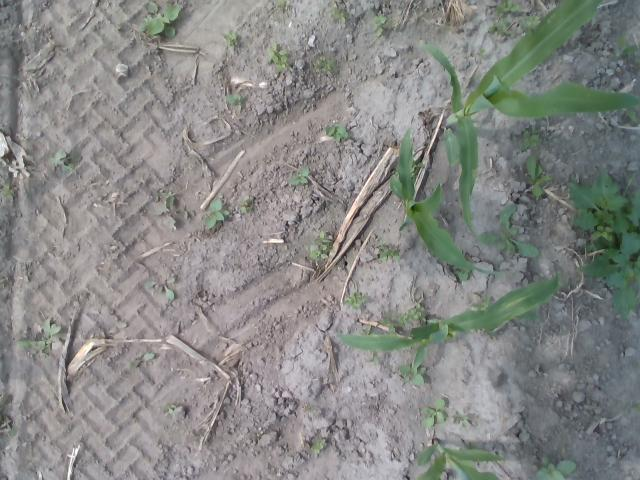Maize: (421, 0, 640, 240), (334, 266, 564, 373), (386, 125, 516, 278), (411, 439, 505, 480)
Weeds: (567, 168, 640, 318), (478, 204, 538, 258), (141, 188, 190, 230), (16, 317, 64, 359), (138, 0, 182, 38), (522, 154, 552, 198), (530, 454, 577, 480), (398, 343, 426, 386), (48, 149, 82, 175), (142, 276, 176, 300), (202, 200, 229, 230), (391, 159, 424, 183), (264, 40, 288, 72), (308, 231, 334, 259), (423, 398, 446, 429), (369, 14, 396, 38), (613, 34, 637, 58), (324, 3, 349, 26), (486, 17, 514, 37), (378, 314, 404, 335), (312, 55, 336, 76), (377, 241, 400, 262), (404, 302, 427, 323), (342, 292, 368, 310), (322, 124, 348, 142), (468, 288, 489, 310), (516, 14, 539, 34), (519, 128, 539, 151), (128, 352, 156, 368), (223, 92, 245, 112), (222, 29, 242, 51), (286, 167, 310, 184), (452, 261, 472, 281), (492, 0, 520, 14), (623, 106, 640, 126), (238, 194, 255, 214), (454, 409, 470, 429), (0, 394, 9, 424), (0, 182, 16, 198), (312, 438, 326, 454), (365, 350, 379, 364), (358, 326, 373, 335), (272, 0, 288, 7), (164, 404, 174, 414), (115, 19, 122, 32), (633, 398, 640, 410), (476, 48, 486, 56)
